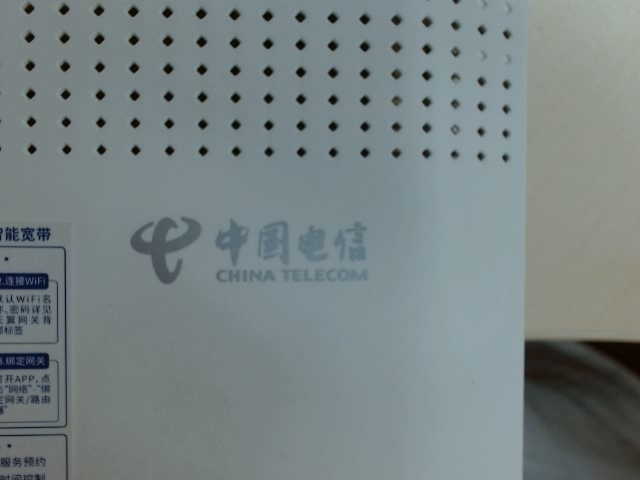ChinaTelecom1: (115, 198, 384, 287)
